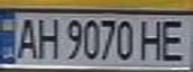0: (115, 17, 139, 61), (81, 16, 100, 61)
7: (100, 17, 118, 61)
9: (60, 16, 84, 61)
A: (12, 15, 39, 61)
E: (157, 16, 190, 62)
H: (136, 16, 169, 61), (33, 15, 60, 61)
